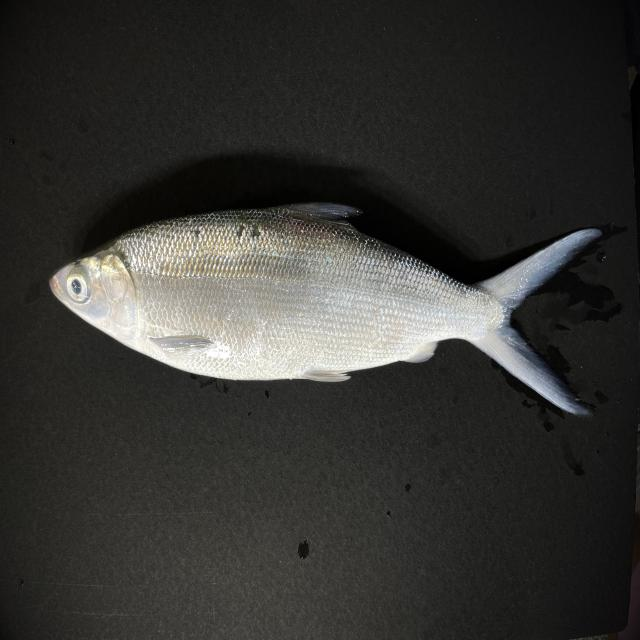835 g: (49, 200, 604, 418)
